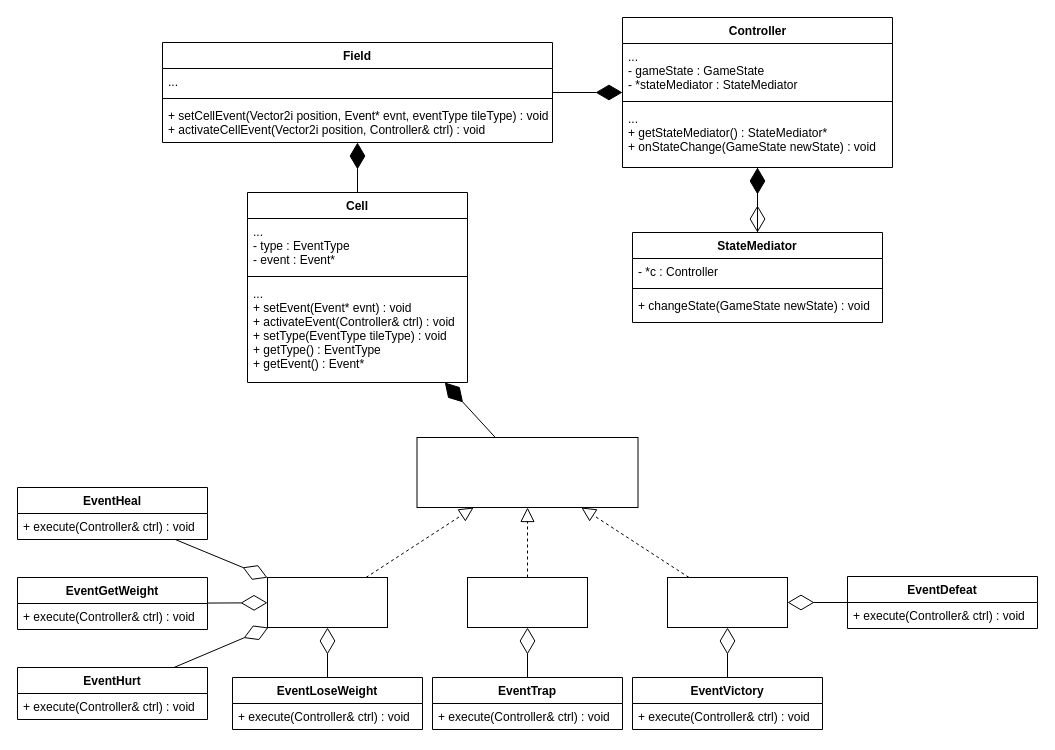
The diagram is 1055 pixels wide and 750 high, and some of its shapes have lost their labels. The centre of each missing label's shape, as x and y in pixels:
"<<Interface>> Event + execute(Controller& ctrl) : virtual void" goes at (x=527, y=472).
"EventMap" goes at (x=527, y=602).
"EventPlayer" goes at (x=327, y=602).
"EventState" goes at (x=727, y=602).
